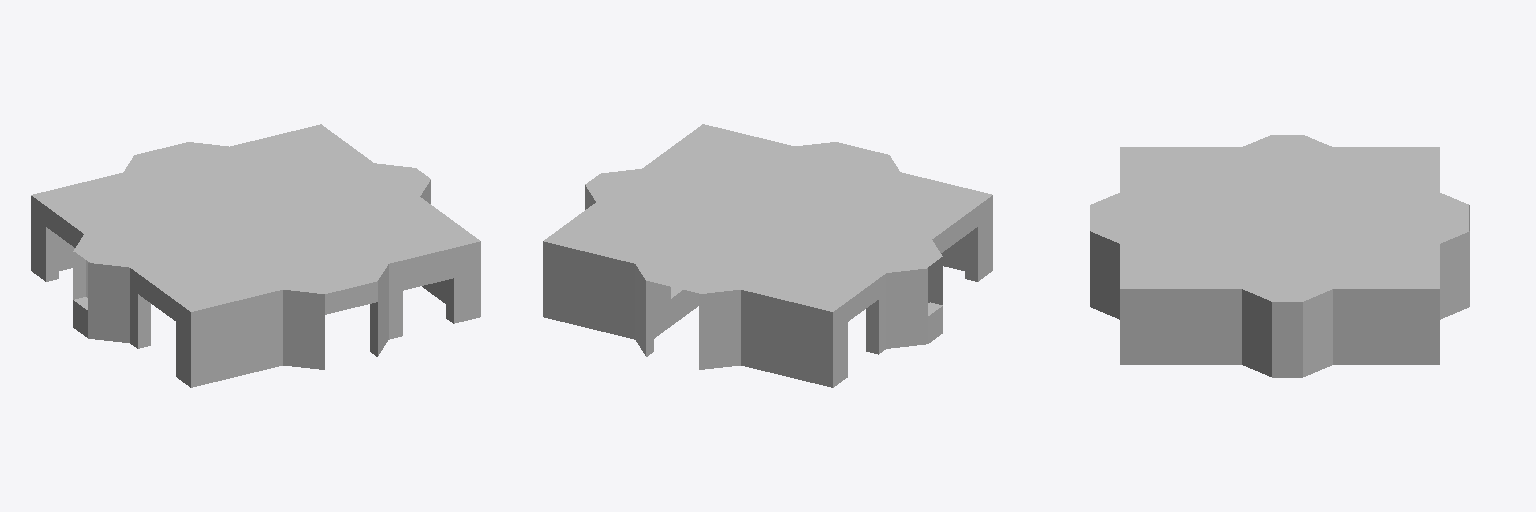
Rendered from MoonlitCafe.obj.
3 renders of one model, left to right at view 1: azimuth 30°, elevation 25°; view 2: azimuth 150°, elevation 25°; view 3: azimuth 270°, elevation 25°, orthographic.
Visible parts, largest first — view 1: Floor.001; view 2: Floor.001; view 3: Floor.001.
Boxes of the visible parts, box(x1,y1,x2,y2) form: Floor.001: box(31, 124, 480, 387); Floor.001: box(543, 124, 992, 387); Floor.001: box(1090, 135, 1469, 377).
Bounding box in the file's own units: 26 × 5.52 × 25.